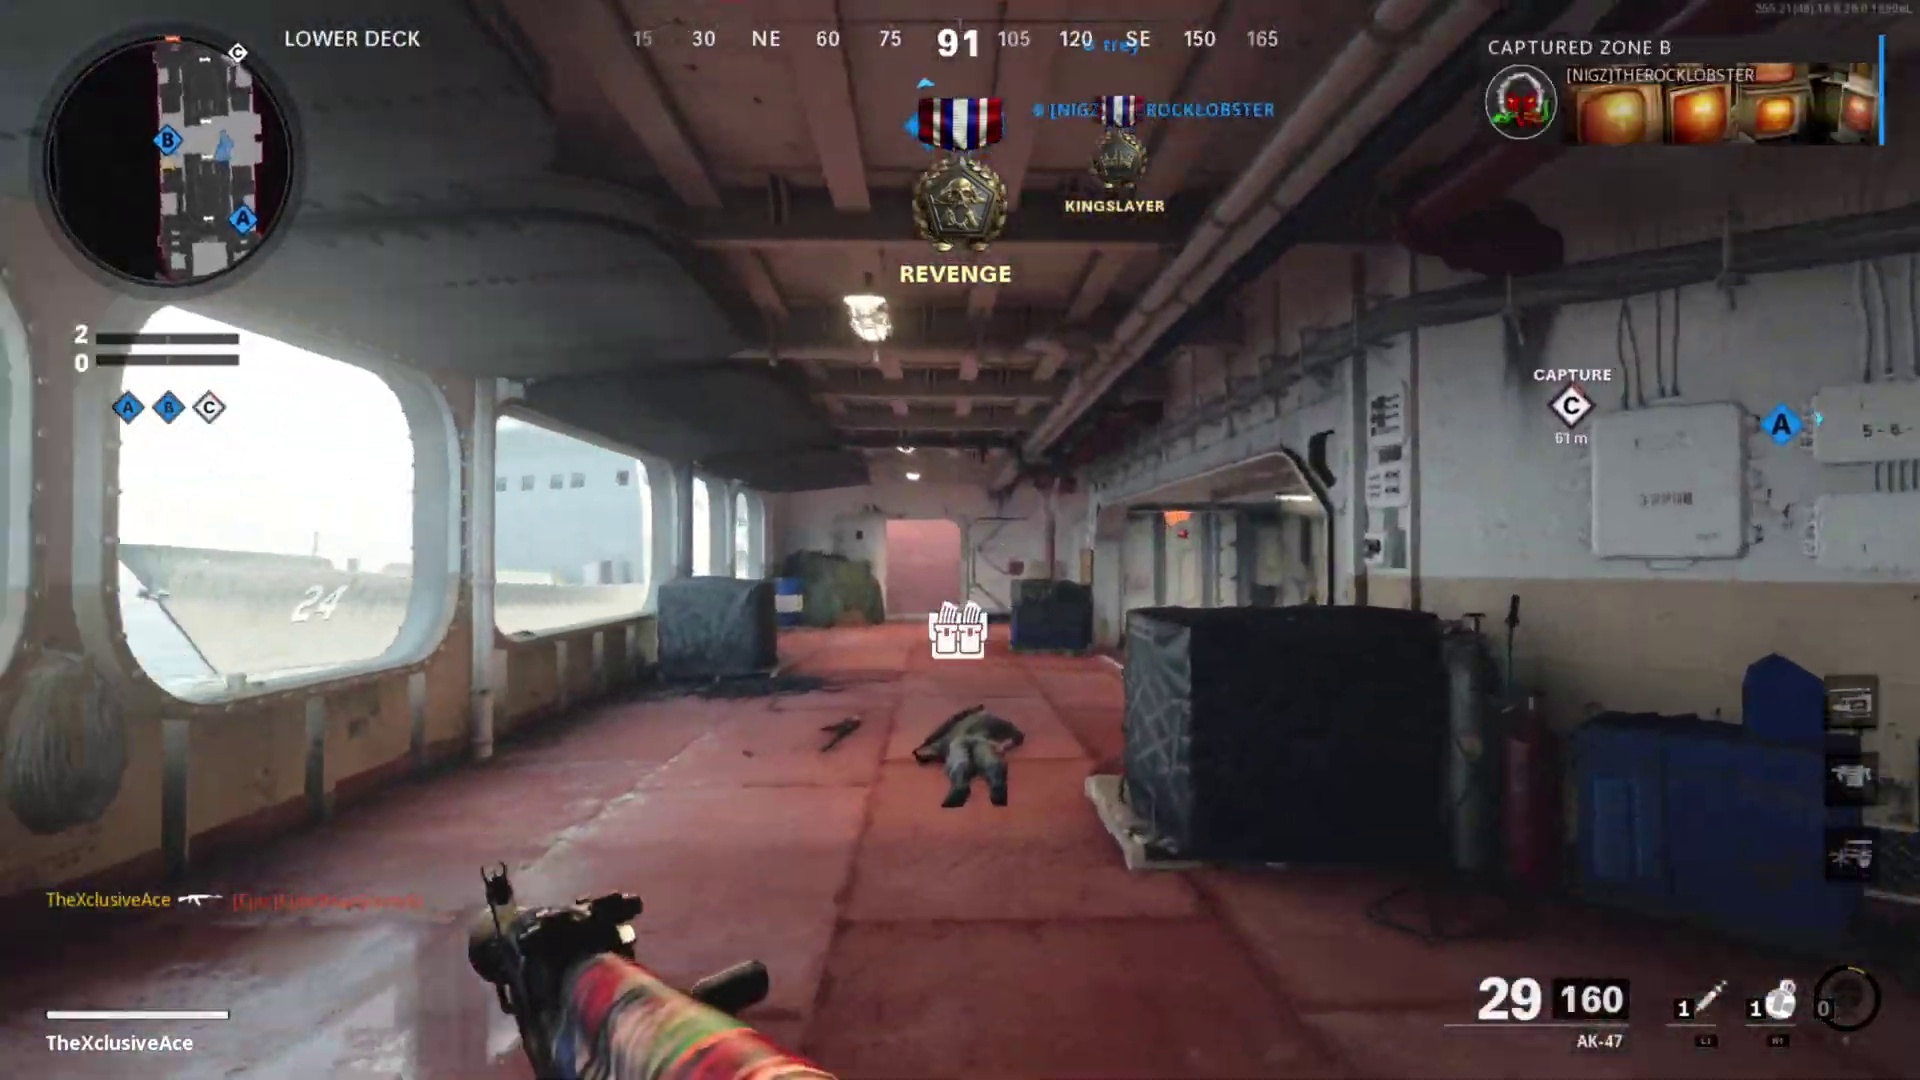person: (912, 705, 1022, 808)
